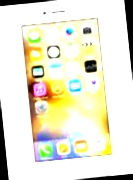iphone: (23, 1, 110, 180)
